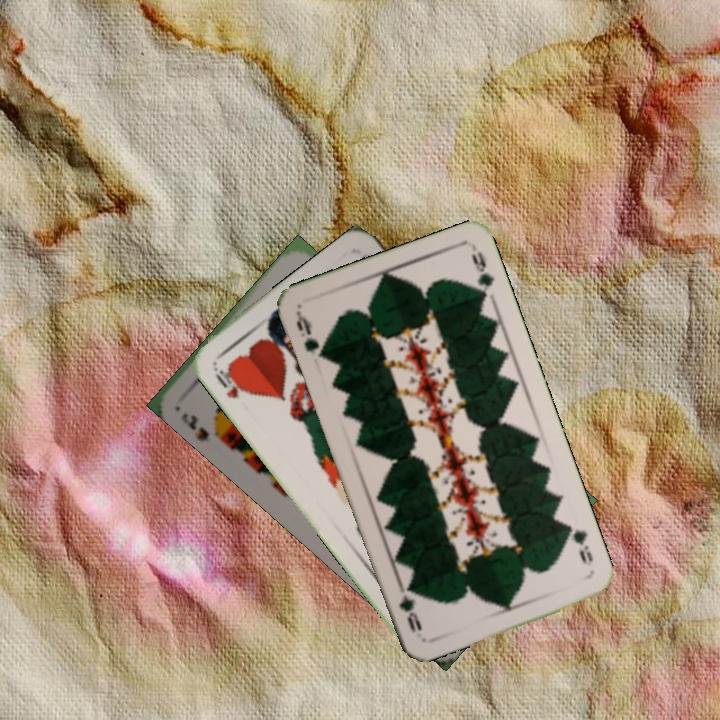G9: (292, 308, 329, 362), (560, 520, 596, 567)
HO: (209, 360, 251, 402)
S9: (177, 408, 222, 445)
